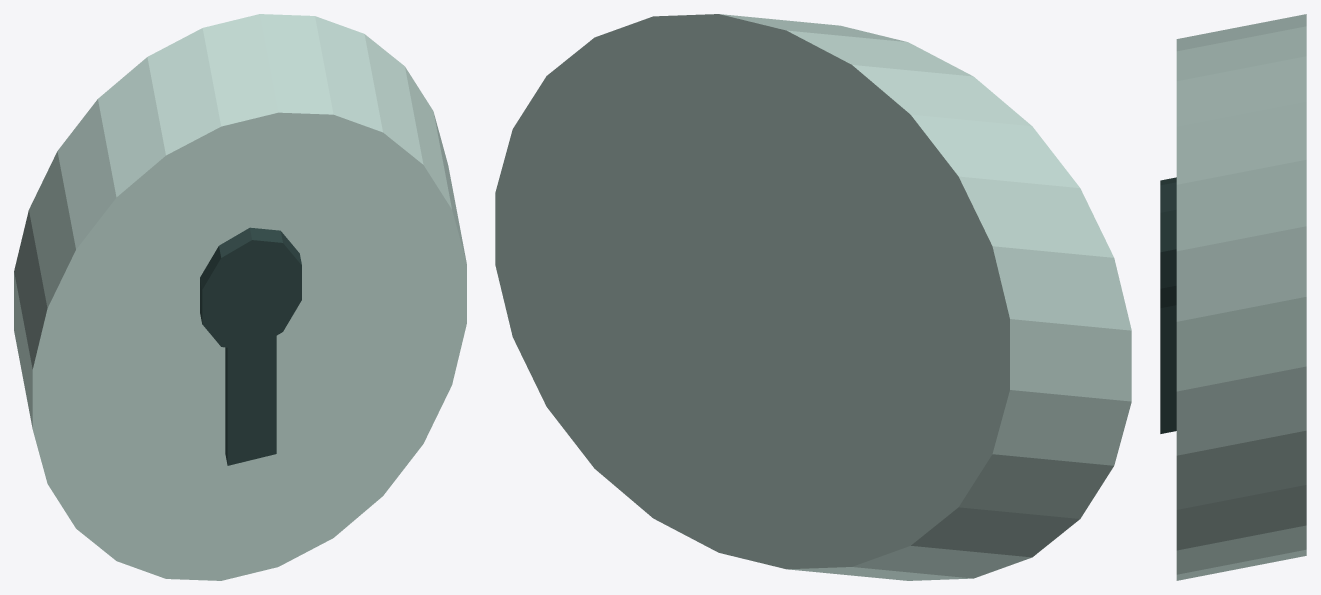
Rendered from LockWall_Emblem.gltf.
3 renders of one model, left to right at view 1: azimuth 30°, elevation 25°; view 2: azimuth 150°, elevation 25°; view 3: azimuth 270°, elevation 25°, orthographic. The views are drawn at different scales.
Visible parts, largest first — view 1: LockWall_Emblem_baked; view 2: LockWall_Emblem_baked; view 3: LockWall_Emblem_baked.
Part boxes in pixels (x1,y1,x2,y2): LockWall_Emblem_baked: (14, 14, 466, 580); LockWall_Emblem_baked: (495, 14, 1131, 580); LockWall_Emblem_baked: (1160, 14, 1306, 580).
Size of the model in its own units: 0.5437 by 0.5437 by 0.135.
